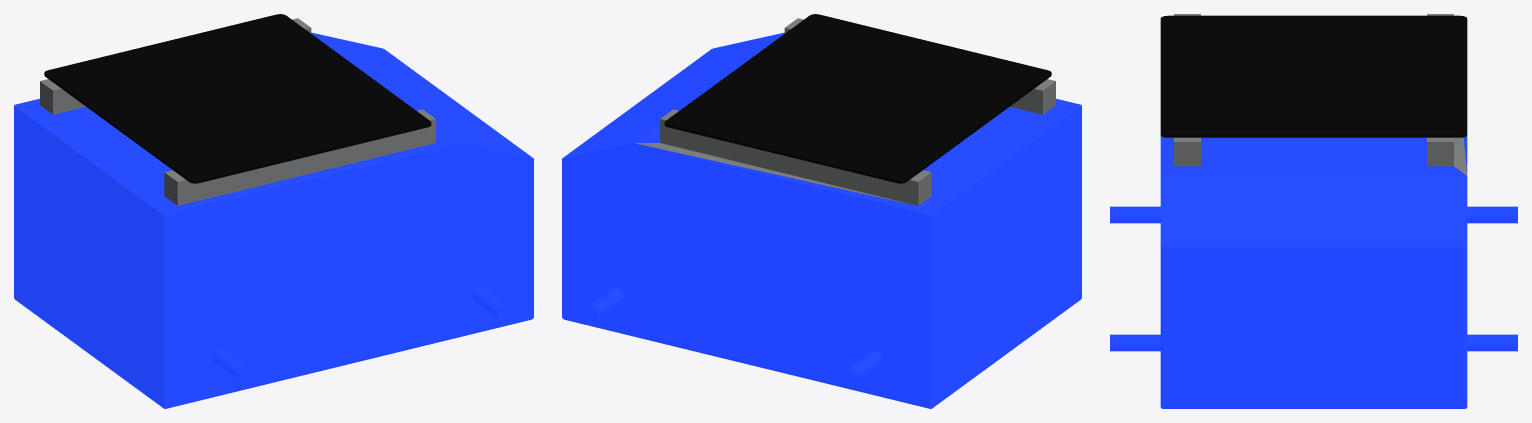
The model's file is copernicus.dae.
3 renders of one model, left to right at view 1: azimuth 30°, elevation 25°; view 2: azimuth 150°, elevation 25°; view 3: azimuth 270°, elevation 25°, orthographic.
Parts seen in each view (by area): view 1: Copernicus Simple; view 2: Copernicus Simple; view 3: Copernicus Simple.
Part boxes in pixels (left/top/right/bottom): Copernicus Simple: left=14, top=14, right=533, bottom=408; Copernicus Simple: left=562, top=14, right=1081, bottom=408; Copernicus Simple: left=1110, top=14, right=1517, bottom=408.
Bounding box in the file's own units: 6.46 × 6.06 × 3.68.
